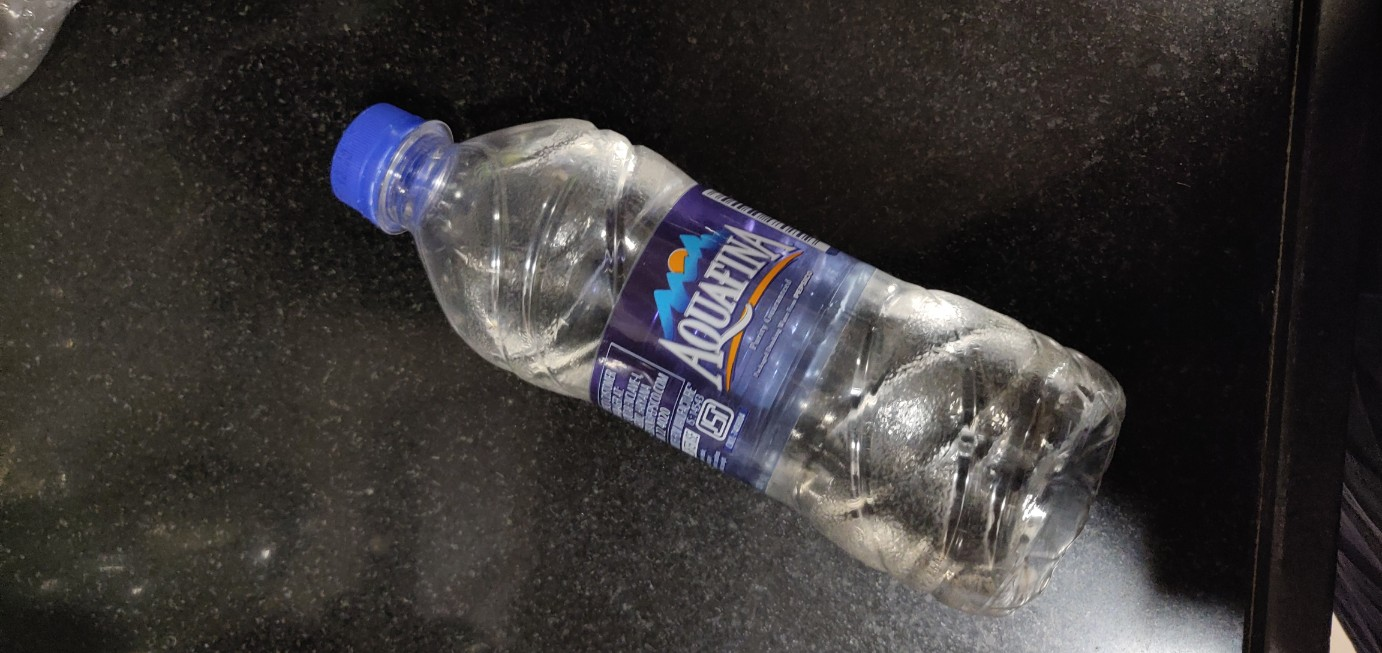Electronics: (308, 81, 1141, 629)
